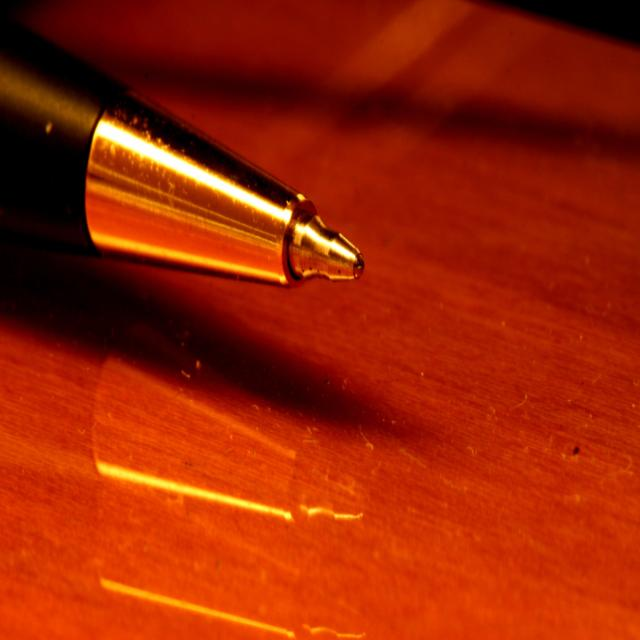pen: (0, 0, 370, 289)
